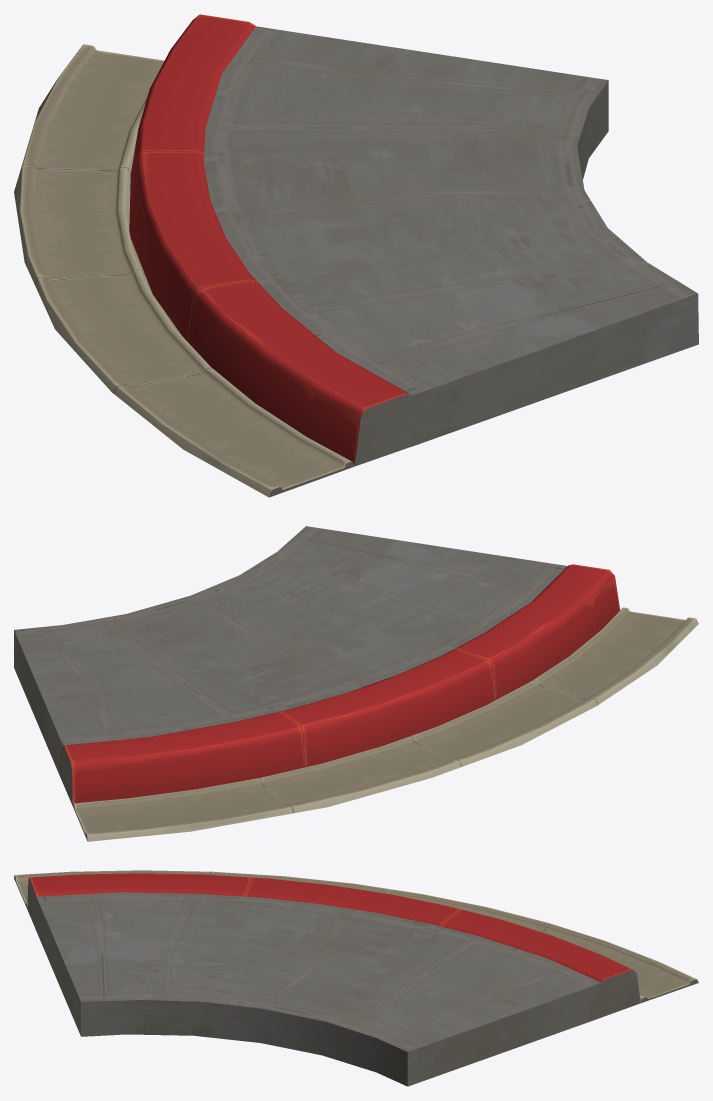
The model's file is Sidewalk_Corner_60.gltf.
3 renders of one model, top to bottom at view 1: azimuth 30°, elevation 25°; view 2: azimuth 150°, elevation 25°; view 3: azimuth 270°, elevation 25°, orthographic. The views are drawn at different scales.
Visible parts, largest first — view 1: SM_Sidewalk_Corner_60; view 2: SM_Sidewalk_Corner_60; view 3: SM_Sidewalk_Corner_60.
Boxes of the visible parts, x1,y1,x2,y2 form: SM_Sidewalk_Corner_60: (14,14,698,497); SM_Sidewalk_Corner_60: (14,526,698,841); SM_Sidewalk_Corner_60: (14,870,698,1086).
Bounding box in the file's own units: 1.99 × 0.1604 × 2.69.
